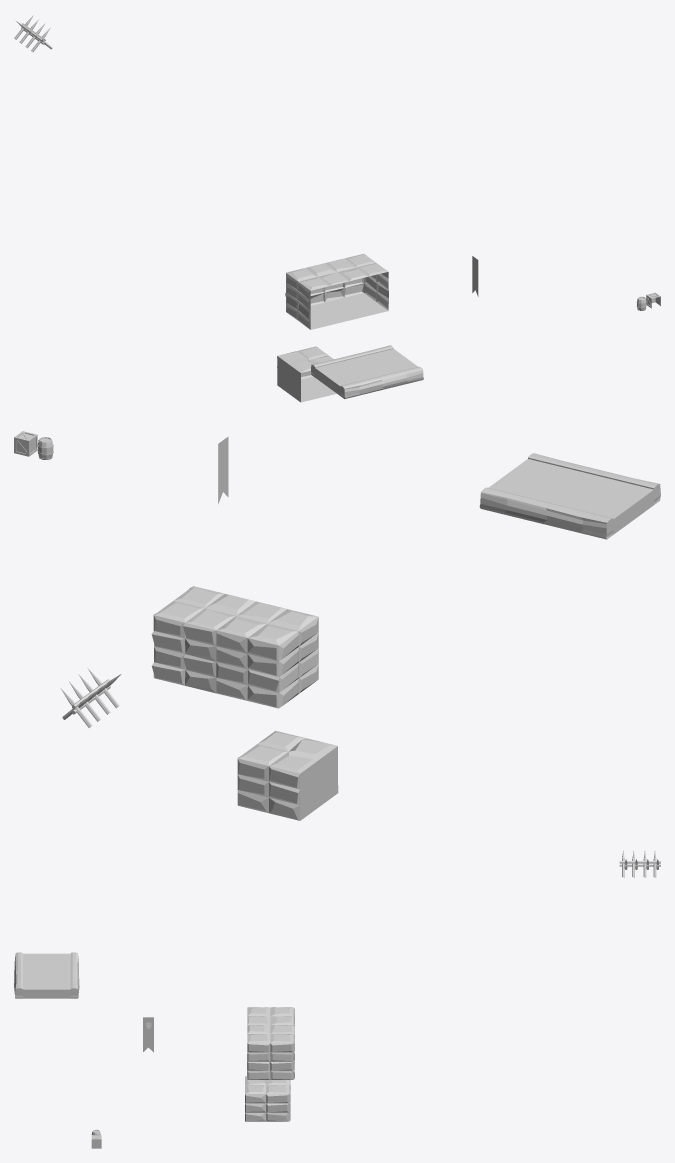
File: worldObjects.fbx
3 renders of one model, top to bottom at view 1: azimuth 30°, elevation 25°; view 2: azimuth 150°, elevation 25°; view 3: azimuth 270°, elevation 25°, orthographic. The views are drawn at different scales.
Parts seen in each view (by area): view 1: 8m2Wall.001, Floor1.000, CubeRockTop1Side.001; view 2: 8m2Wall.001, Floor1.000, CubeRockTop1Side.001, SpikeBarricade.001, Flama2.001; view 3: 8m2Wall.001, Floor1.000, CubeRockTop1Side.001, SpikeBarricade.001.
Part boxes in pixels (<box>): 8m2Wall.001: <box>285,253,388,329</box>; Floor1.000: <box>311,345,423,398</box>; CubeRockTop1Side.001: <box>277,346,336,402</box>; 8m2Wall.001: <box>151,586,318,708</box>; Floor1.000: <box>479,453,660,539</box>; CubeRockTop1Side.001: <box>237,730,338,820</box>; SpikeBarricade.001: <box>60,668,121,727</box>; Flama2.001: <box>218,437,228,503</box>; 8m2Wall.001: <box>247,1007,294,1079</box>; Floor1.000: <box>14,952,79,998</box>; CubeRockTop1Side.001: <box>245,1076,290,1121</box>; SpikeBarricade.001: <box>619,850,660,877</box>.
Size of the model in its own units: 3263 by 2084 by 5457.
